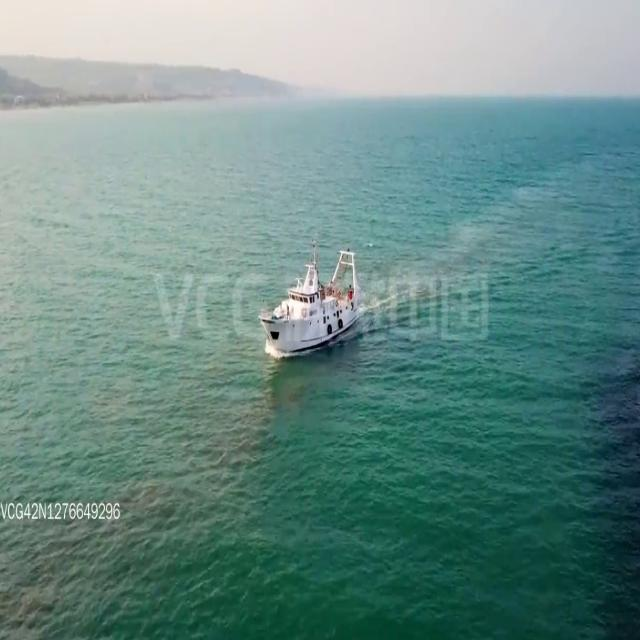houseboat: (260, 240, 366, 364)
